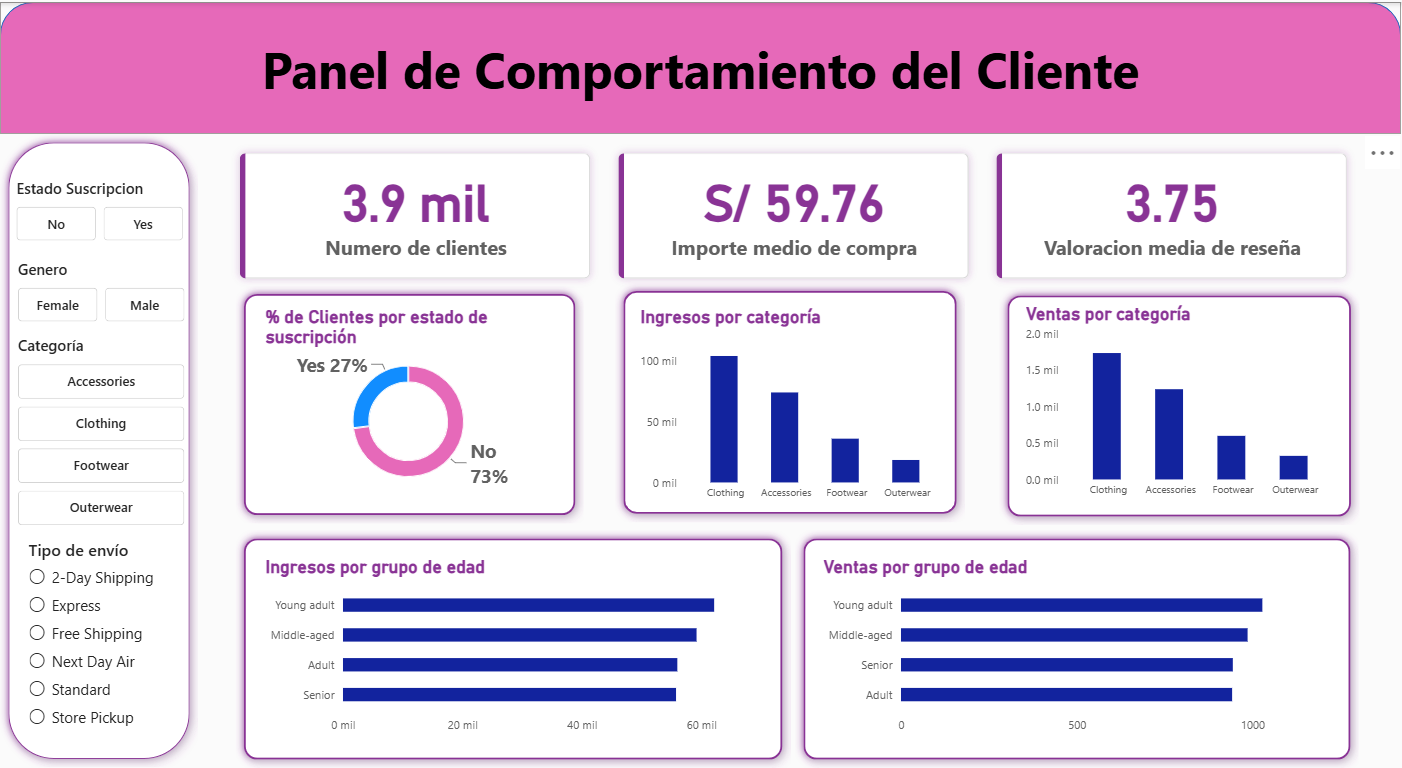

What the dashboard file says about the page in this screenshot:
{"tool":"powerbi","page":{"name":"Página 1","canvas":[1500,820],"ordinal":0},"visuals":[{"type":"cardVisual","fields":{"Data":["Medidas.Numero de cliente","Medidas.Importe medio de compra","Medidas.Valoracion media de reseña"]},"box":[245.5,151.4,1209,156.9],"z":0},{"type":"shape","box":[0,0,1499.8,141.3],"z":1000},{"type":"textbox","box":[0,35.3,1499.8,106],"z":2000},{"type":"shape","box":[252.9,302.7,372.9,254.7],"z":3000},{"type":"donutChart","title":"% de Clientes por estado de suscripción","fields":{"Category":["customer.subscription_status"],"Y":["Medidas.Numero de clientes"]},"box":[267.6,311.9,337.8,230.7],"z":4000},{"type":"shape","box":[659,300.9,374.7,256.6],"z":5000},{"type":"shape","box":[1068.7,304.6,385.8,254.7],"z":6000},{"type":"clusteredColumnChart","title":"Ingresos por categoría","fields":{"Category":["customer.category"],"Y":["Sum(customer.purchase_amount)"]},"box":[670,311.9,359.9,241.8],"z":7000},{"type":"clusteredColumnChart","title":"Ventas por categoría","fields":{"Category":["customer.category"],"Y":["Medidas.Numero de clientes"]},"box":[1081.6,308.2,363.6,241.8],"z":8000},{"type":"shape","box":[0,142,212,678],"z":9000},{"type":"advancedSlicerVisual","title":"Estado Suscripcion","fields":{"Values":["customer.subscription_status"]},"box":[18,188,178,68],"z":10000},{"type":"advancedSlicerVisual","title":"Genero","fields":{"Values":["customer.gender"]},"box":[20,274,178,68],"z":11000},{"type":"advancedSlicerVisual","title":"Categoría","fields":{"Values":["customer.category"]},"box":[20,356,178,204],"z":12000},{"type":"listSlicer","title":"Tipo de envío","fields":{"Values":["customer.shipping_type"]},"box":[14,560,200,244],"z":13000},{"type":"shape","box":[850.9,564.8,603.6,254.7],"z":14000},{"type":"shape","box":[252.9,564.8,594.3,254.7],"z":15000},{"type":"clusteredBarChart","title":"Ingresos por grupo de edad","fields":{"Category":["customer.age_group"],"Y":["Sum(customer.purchase_amount)"]},"box":[267.6,579.6,579.6,223.3],"z":16000},{"type":"clusteredBarChart","title":"Ventas por grupo de edad","fields":{"Category":["customer.age_group"],"Y":["Medidas.Numero de clientes"]},"box":[865.7,579.6,579.6,223.3],"z":17000}]}

Visuals, with their boxes in screenshot pixels (x1, y1, x2, y2), scaled from the page's 1500x820 canvas onto the 1402x768 screenshot:
cardVisual - Medidas.Numero de cliente x Medidas.Importe medio de compra: select_region(229, 142, 1359, 289)
shape: select_region(0, 0, 1401, 132)
textbox: select_region(0, 33, 1401, 132)
shape: select_region(236, 284, 585, 522)
"% de Clientes por estado de suscripción" donutChart: select_region(250, 292, 566, 508)
shape: select_region(616, 282, 966, 522)
shape: select_region(999, 285, 1359, 524)
"Ingresos por categoría" clusteredColumnChart: select_region(626, 292, 963, 519)
"Ventas por categoría" clusteredColumnChart: select_region(1011, 289, 1351, 515)
shape: select_region(0, 133, 198, 767)
"Estado Suscripcion" advancedSlicerVisual: select_region(17, 176, 183, 240)
"Genero" advancedSlicerVisual: select_region(19, 257, 185, 320)
"Categoría" advancedSlicerVisual: select_region(19, 333, 185, 524)
"Tipo de envío" listSlicer: select_region(13, 524, 200, 753)
shape: select_region(795, 529, 1359, 767)
shape: select_region(236, 529, 792, 767)
"Ingresos por grupo de edad" clusteredBarChart: select_region(250, 543, 792, 752)
"Ventas por grupo de edad" clusteredBarChart: select_region(809, 543, 1351, 752)
